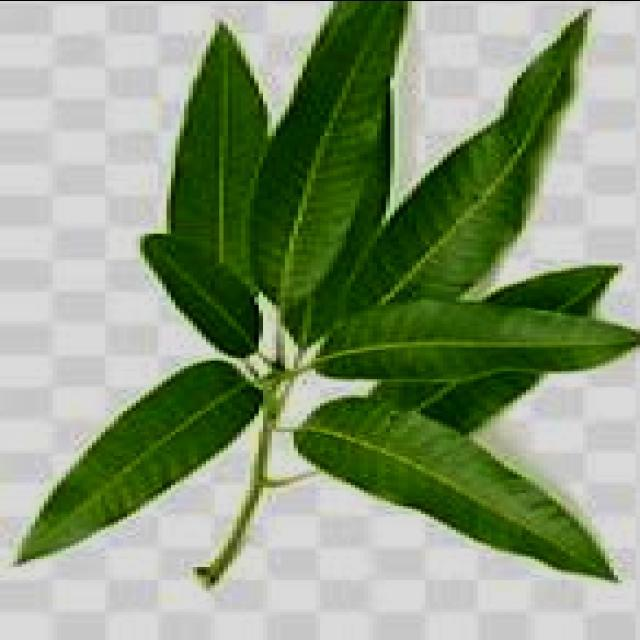leaf: (11, 2, 637, 591), (12, 358, 262, 565)
